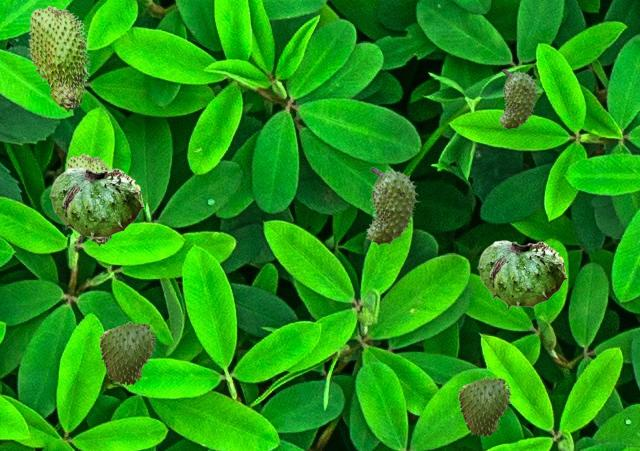guyabano: (49, 167, 143, 241), (27, 5, 90, 111), (477, 240, 566, 310), (365, 167, 419, 246), (66, 153, 112, 245), (99, 321, 156, 386), (458, 376, 511, 437), (498, 69, 539, 130)
